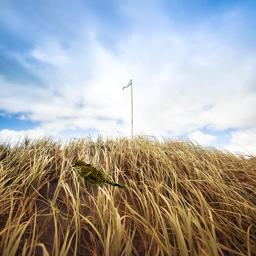Cuckoo: (71, 160, 128, 189)
